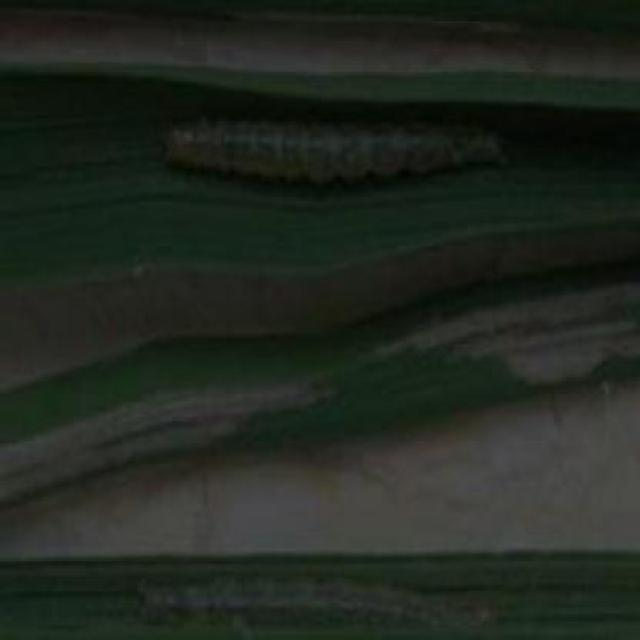leaf-folder: (118, 551, 531, 640), (155, 99, 510, 192)
